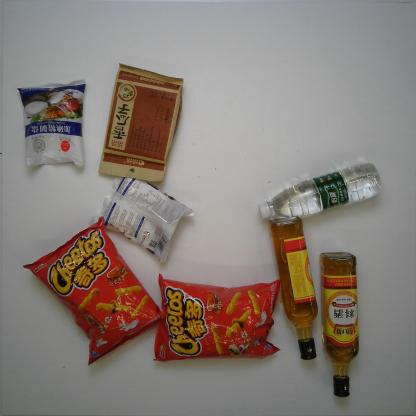Dried Food: (97, 61, 186, 184)
Drink: (256, 161, 382, 224)
Puffed Food: (22, 214, 164, 368), (154, 271, 282, 364)
Seasoner: (86, 176, 197, 266), (266, 217, 321, 362), (315, 250, 360, 400), (15, 78, 88, 170)
